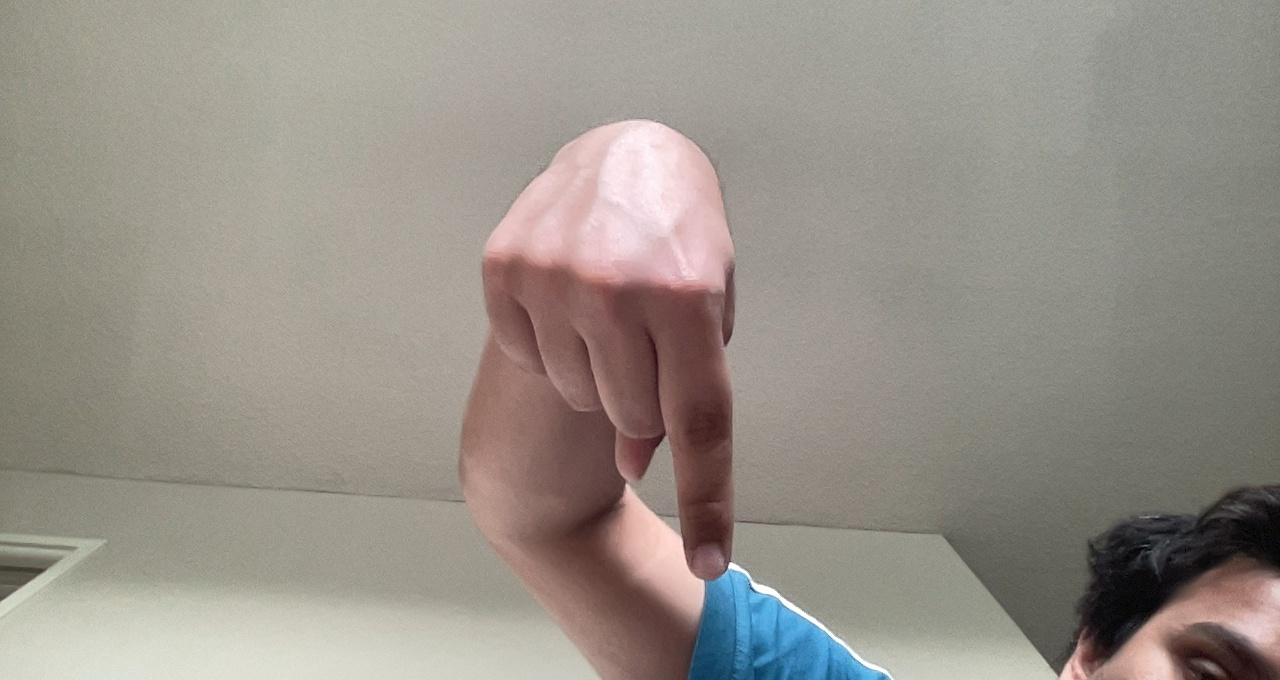fingerdown: (476, 116, 746, 586)
